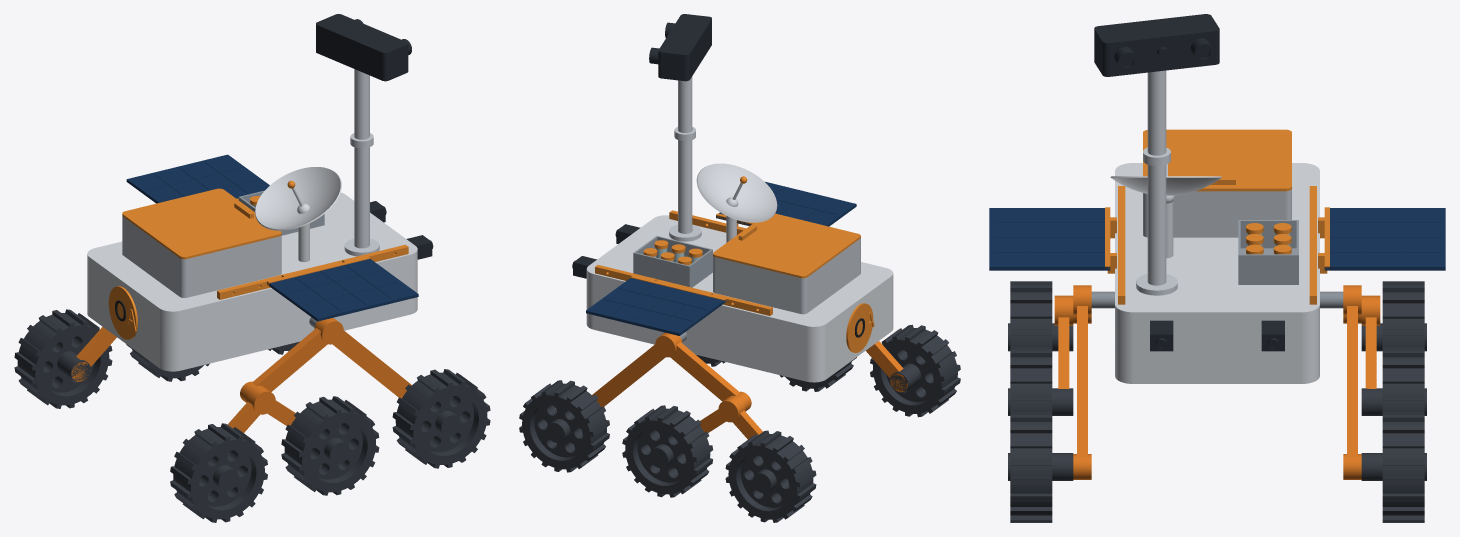
The model's file is rover.glb.
3 views of the same model, side by side, from view 1: azimuth 30°, elevation 25°; view 2: azimuth 150°, elevation 25°; view 3: azimuth 270°, elevation 25° (orthographic). The views are drawn at different scales.
Visible parts, largest first — view 1: chassis/chassis.body_box, wheel_rm/wheel.drum (wheel:5), wheel_rr/wheel.drum (wheel:6), wheel_rf/wheel.drum (wheel:4), wheel_lr/wheel.drum (wheel:3), avionics_lid/avionics_lid.plate, avionics_bay/avionics_bay.box, solar_panel_r/solar_panel.panel (solar_panel:2), antenna/antenna.post, camera_head/camera_head.bar, rocker_r/rocker.fwd_arm (rocker:2), solar_panel_l/solar_panel.panel (+6 smaller); view 2: chassis/chassis.body_box, wheel_lm/wheel.drum (wheel:2), wheel_lr/wheel.drum (wheel:3), wheel_lf/wheel.drum, wheel_rr/wheel.drum (wheel:6), avionics_lid/avionics_lid.plate, avionics_bay/avionics_bay.box, solar_panel_l/solar_panel.panel, antenna/antenna.post, rocker_l/rocker.fwd_arm, camera_head/camera_head.bar, mast/mast.flange (+7 smaller); view 3: chassis/chassis.body_box, avionics_lid/avionics_lid.plate, solar_panel_l/solar_panel.panel, solar_panel_r/solar_panel.panel (solar_panel:2), camera_head/camera_head.bar, wheel_lf/wheel.drum, wheel_rf/wheel.drum (wheel:4), mast/mast.flange, avionics_bay/avionics_bay.box, wheel_lm/wheel.drum (wheel:2), wheel_rm/wheel.drum (wheel:5), wheel_lr/wheel.drum (wheel:3) (+11 smaller).
Part boxes in pixels (<box>): chassis/chassis.body_box: <box>87,192,417,371</box>; wheel_rm/wheel.drum (wheel:5): <box>281,396,379,495</box>; wheel_rr/wheel.drum (wheel:6): <box>170,423,267,522</box>; wheel_rf/wheel.drum (wheel:4): <box>392,369,490,468</box>; wheel_lr/wheel.drum (wheel:3): <box>14,309,112,408</box>; avionics_lid/avionics_lid.plate: <box>122,188,281,259</box>; avionics_bay/avionics_bay.box: <box>122,216,281,297</box>; solar_panel_r/solar_panel.panel (solar_panel:2): <box>267,259,418,321</box>; antenna/antenna.post: <box>255,167,341,262</box>; camera_head/camera_head.bar: <box>316,14,411,81</box>; rocker_r/rocker.fwd_arm (rocker:2): <box>240,318,411,402</box>; solar_panel_l/solar_panel.panel: <box>126,154,269,203</box>; chassis/chassis.body_box: <box>586,215,893,382</box>; wheel_lm/wheel.drum (wheel:2): <box>622,405,712,497</box>; wheel_lr/wheel.drum (wheel:3): <box>725,430,816,522</box>; wheel_lf/wheel.drum: <box>519,380,609,472</box>; wheel_rr/wheel.drum (wheel:6): <box>870,324,960,417</box>; avionics_lid/avionics_lid.plate: <box>713,213,860,278</box>; avionics_bay/avionics_bay.box: <box>713,238,860,314</box>; solar_panel_l/solar_panel.panel: <box>586,278,726,335</box>; antenna/antenna.post: <box>696,163,777,242</box>; rocker_l/rocker.fwd_arm: <box>592,332,751,411</box>; camera_head/camera_head.bar: <box>649,14,711,81</box>; mast/mast.flange: <box>669,76,701,241</box>; chassis/chassis.body_box: <box>1115,163,1319,383</box>; avionics_lid/avionics_lid.plate: <box>1143,129,1291,191</box>; solar_panel_l/solar_panel.panel: <box>1324,208,1445,270</box>; solar_panel_r/solar_panel.panel (solar_panel:2): <box>989,208,1110,270</box>; camera_head/camera_head.bar: <box>1094,14,1219,76</box>; wheel_lf/wheel.drum: <box>1361,411,1426,522</box>; wheel_rf/wheel.drum (wheel:4): <box>1008,411,1073,522</box>; mast/mast.flange: <box>1136,70,1177,295</box>; avionics_bay/avionics_bay.box: <box>1143,189,1291,237</box>; wheel_lm/wheel.drum (wheel:2): <box>1361,346,1426,415</box>; wheel_rm/wheel.drum (wheel:5): <box>1008,346,1073,415</box>; wheel_lr/wheel.drum (wheel:3): <box>1361,281,1426,351</box>.
Size of the model in its own units: 0.9094 by 1.12 by 0.98.
